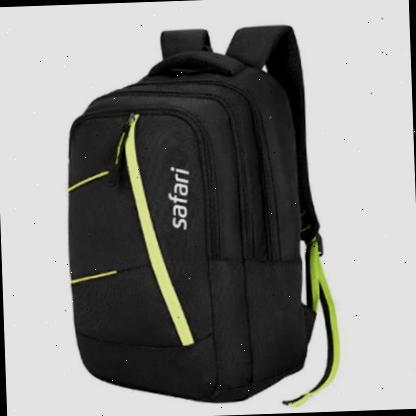bag: (55, 9, 346, 414)
